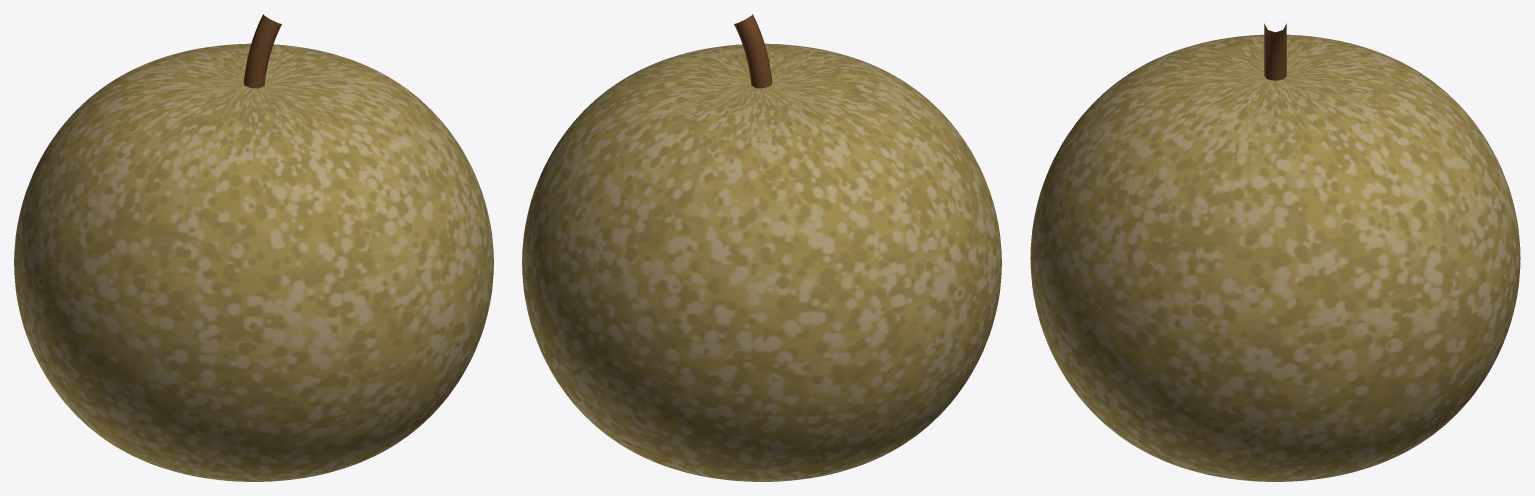
Rendered from custard-apple.glb.
The picture shows the model from 3 angles, left to right: view 1: azimuth 30°, elevation 25°; view 2: azimuth 150°, elevation 25°; view 3: azimuth 270°, elevation 25°; orthographic projection. The views are drawn at different scales.
Size of the model in its own units: 0.17 by 0.1652 by 0.17.
2 materials, 1 textured.
